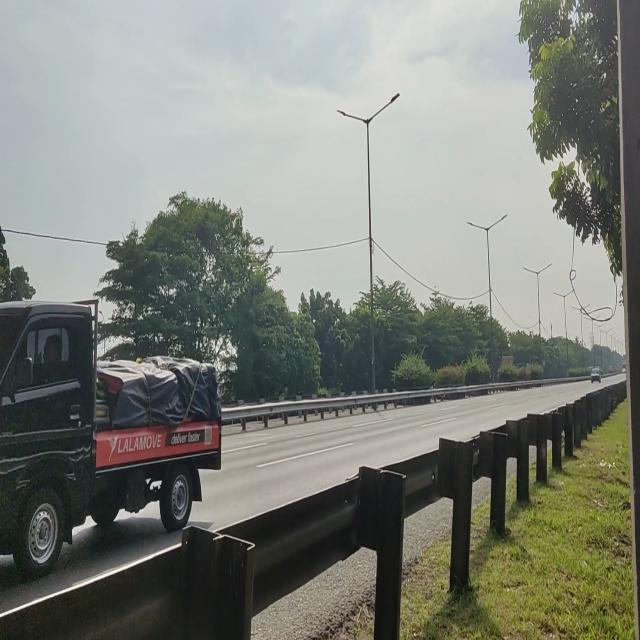Golongan I: (0, 288, 224, 602)
